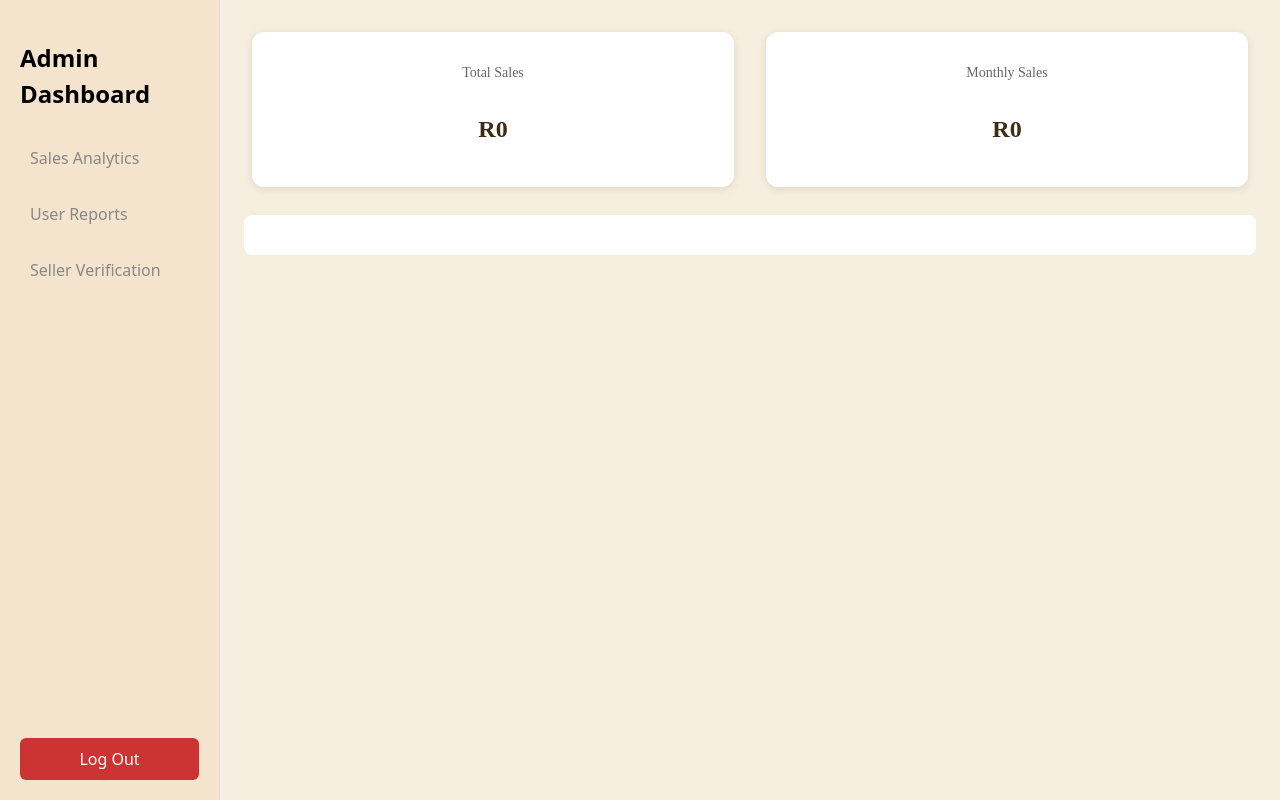
Test: when you press the Seller Verification tab button it takes you to the Seller Verification page
Click the link "Seller Verification".
click(95, 270)  # box left=30, top=259, right=161, bottom=281
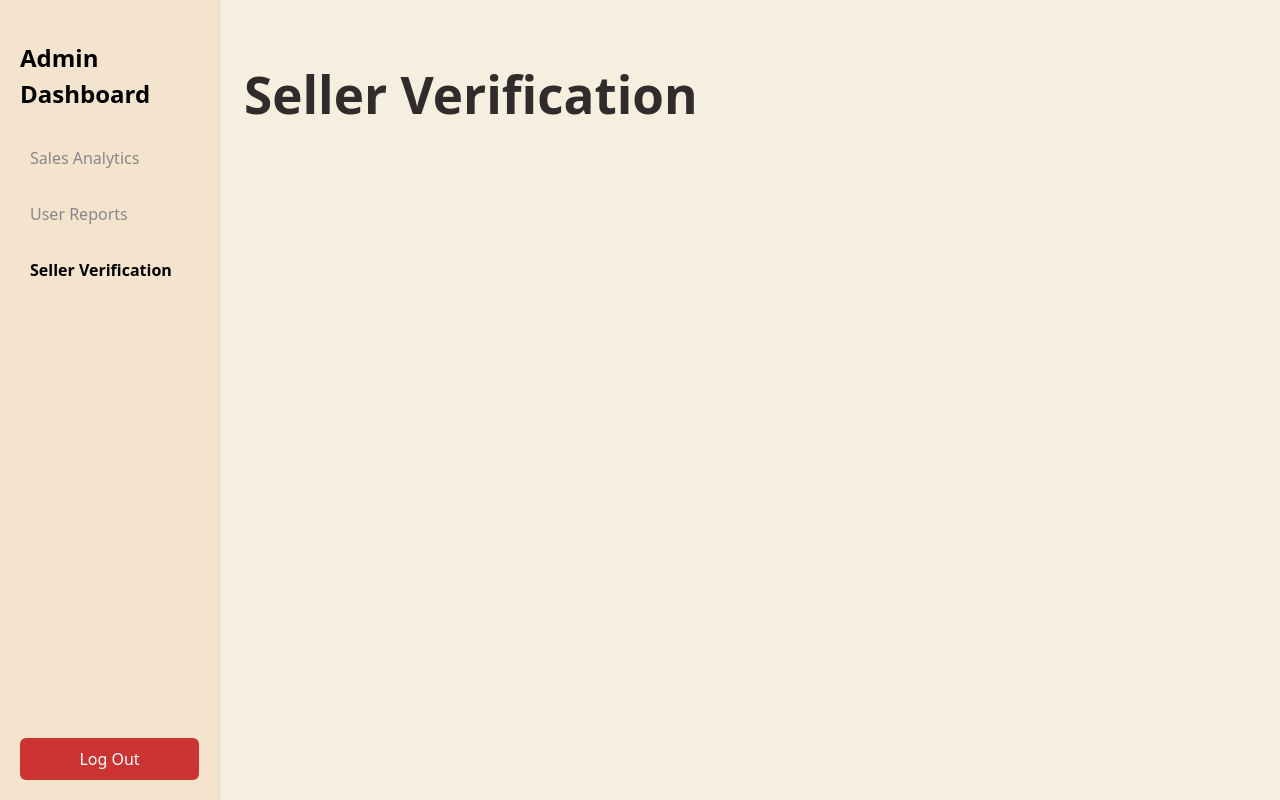
Check: the heading "Seller Verification" is shown, box left=244, top=60, right=698, bottom=130
